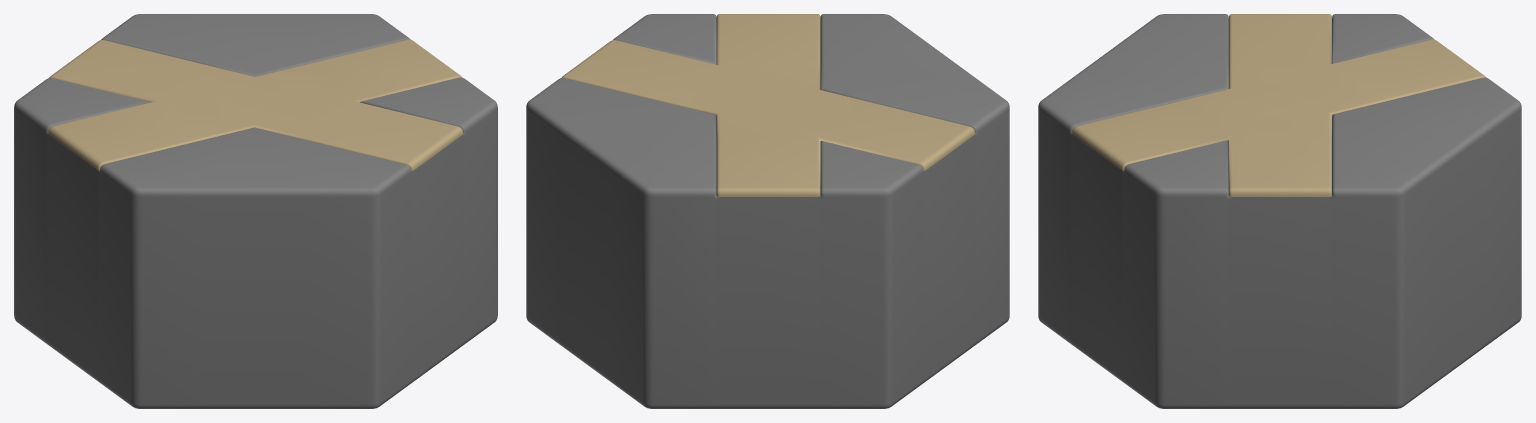
The model's file is Road8.fbx.
3 renders of one model, left to right at view 1: azimuth 30°, elevation 25°; view 2: azimuth 150°, elevation 25°; view 3: azimuth 270°, elevation 25°, orthographic.
Parts seen in each view (by area): view 1: Cylinder036; view 2: Cylinder036; view 3: Cylinder036.
Part boxes in pixels (<box>): Cylinder036: <box>14,14,497,408</box>; Cylinder036: <box>526,14,1009,408</box>; Cylinder036: <box>1038,14,1521,408</box>.
Bounding box in the file's own units: 173 × 100 × 199.
